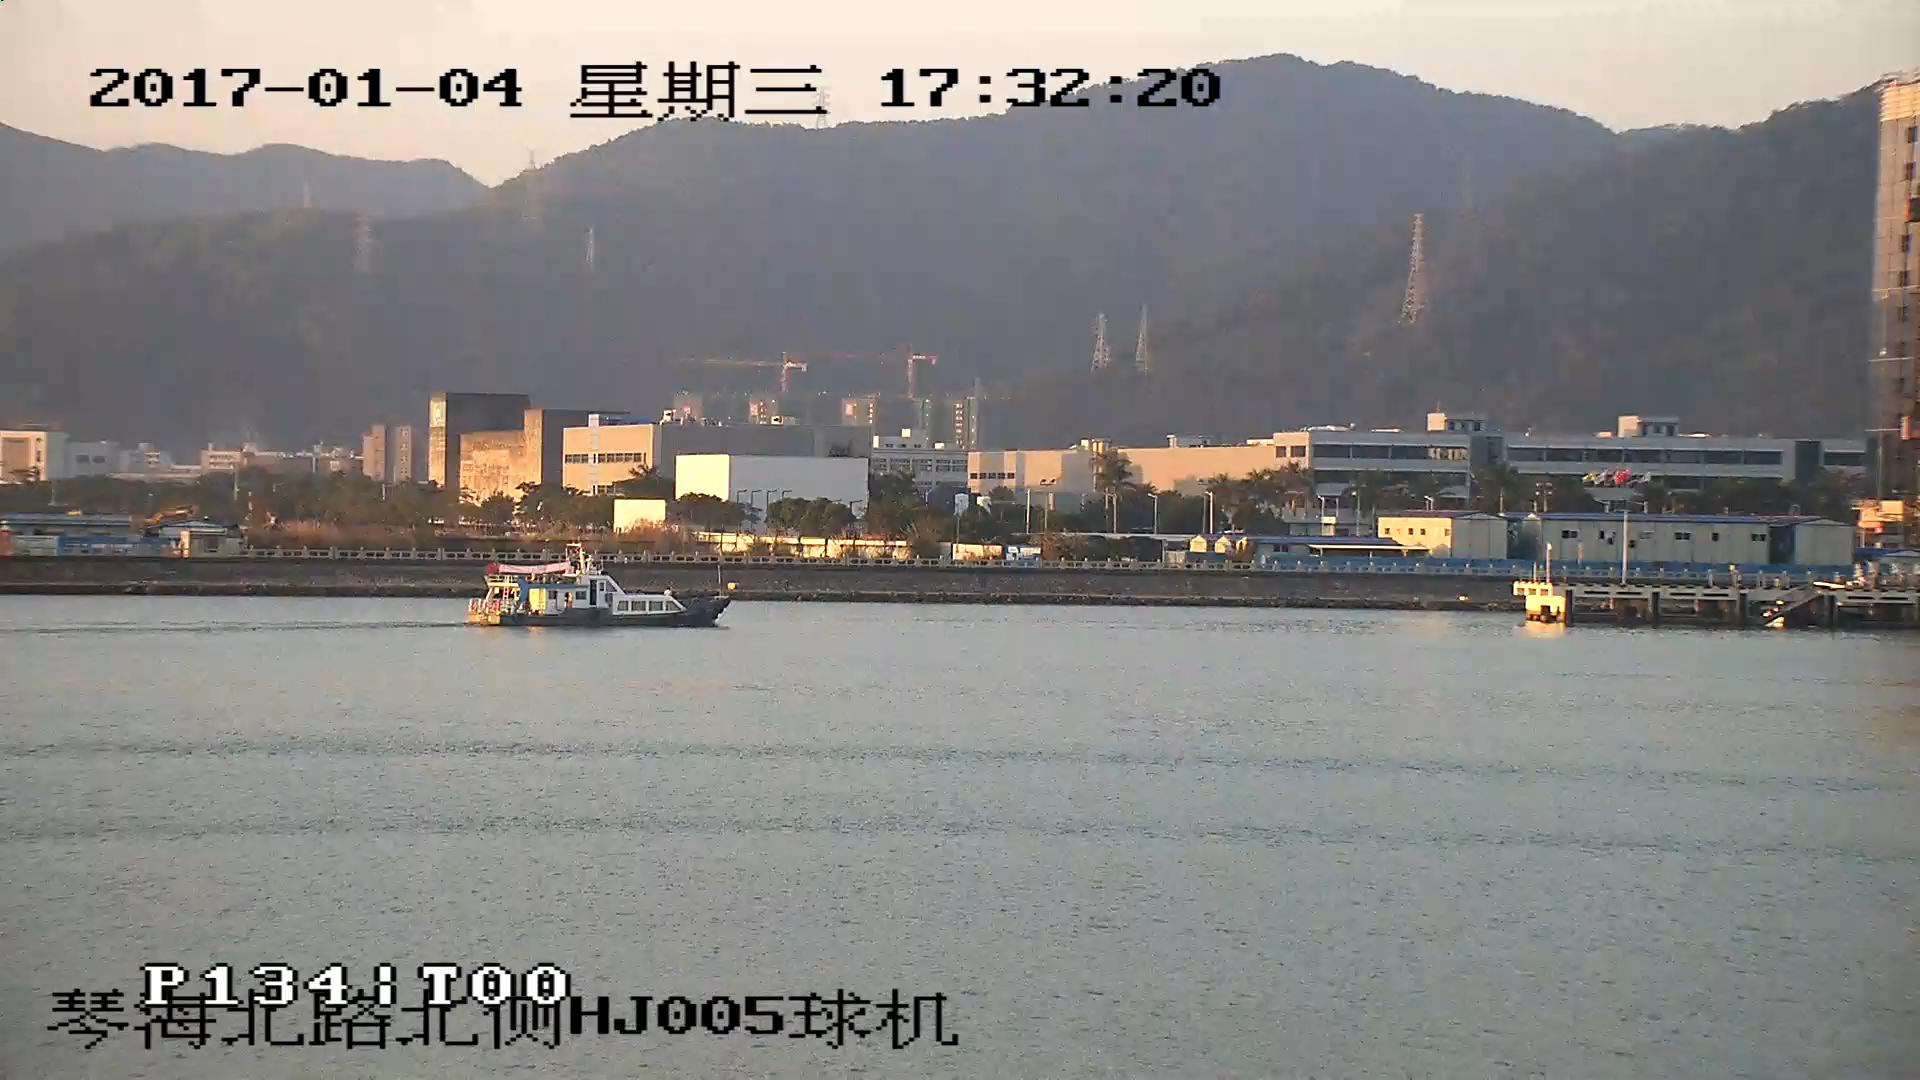fishing boat: (467, 550, 732, 632)
